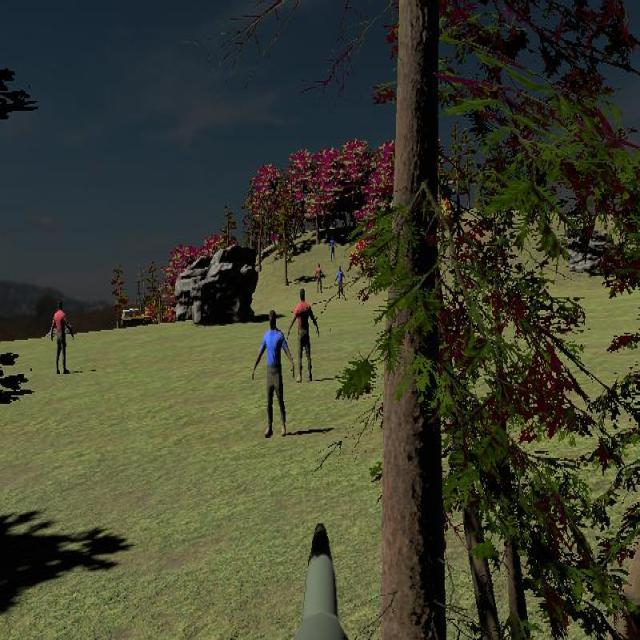Human: (252, 308, 295, 439), (288, 288, 319, 382), (51, 298, 74, 375)
